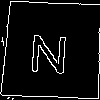N: (27, 25, 71, 74)
